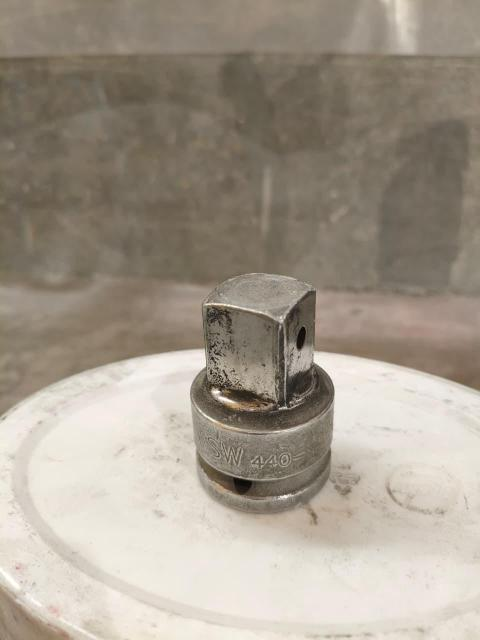Metal: (195, 273, 335, 500)
